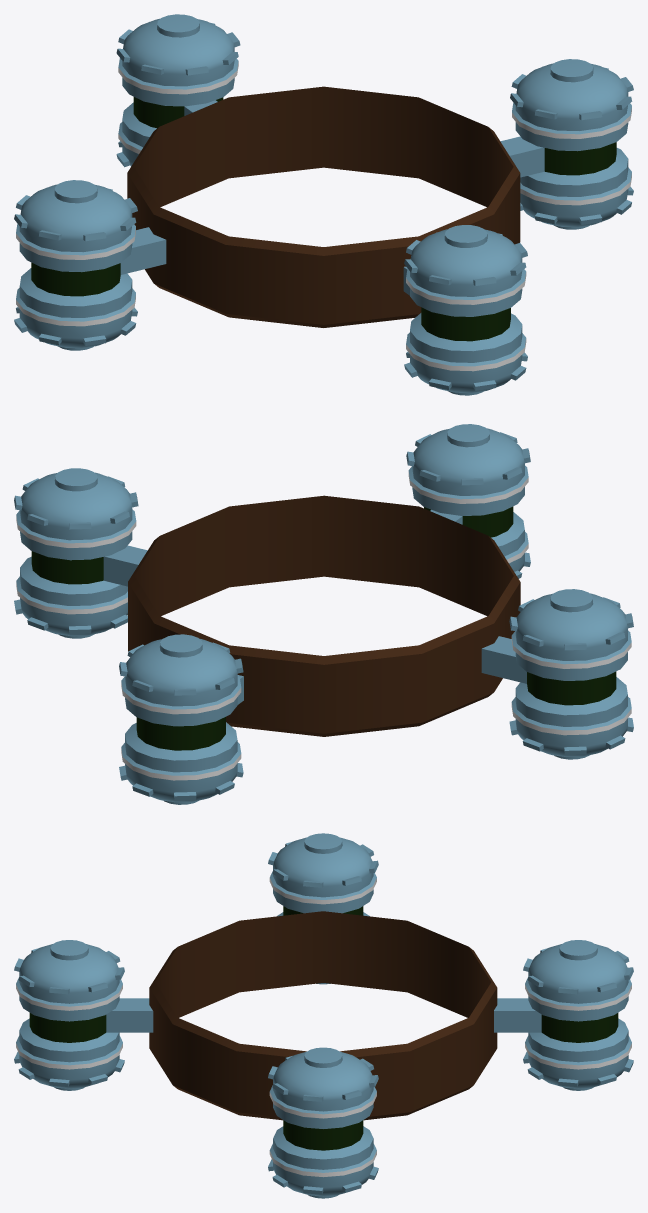
Rendered from BombBelt.fbx.
The picture shows the model from 3 angles, top to bottom: view 1: azimuth 30°, elevation 25°; view 2: azimuth 150°, elevation 25°; view 3: azimuth 270°, elevation 25°; orthographic projection. The views are drawn at different scales.
Visible parts, largest first — view 1: Circle; view 2: Circle; view 3: Circle.
Part boxes in pixels (x1,y1,x2,y2): Circle: [14, 14, 633, 395]; Circle: [14, 424, 633, 804]; Circle: [14, 833, 633, 1198].
Bounding box in the file's own units: 1230 × 300 × 1235.
